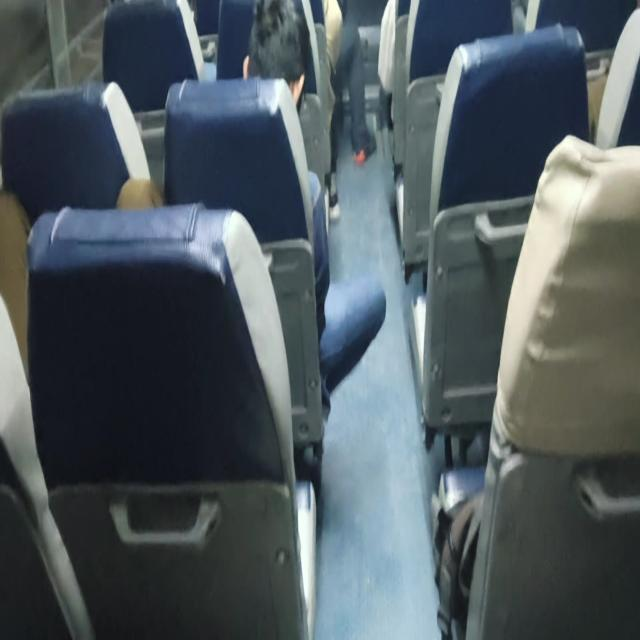person: (245, 12, 313, 105)
